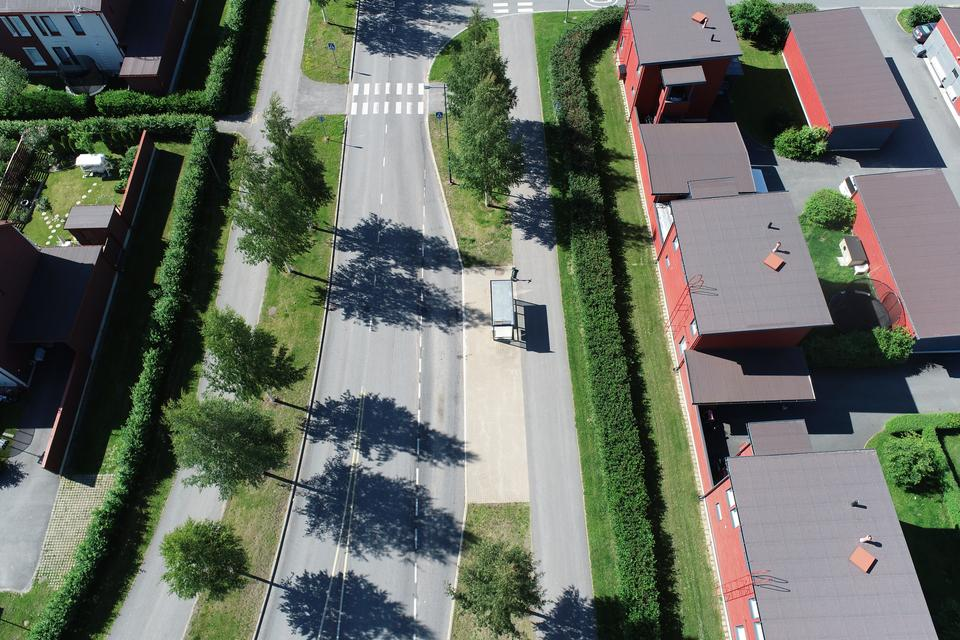intersection: (238, 56, 464, 130), (335, 0, 576, 36)
